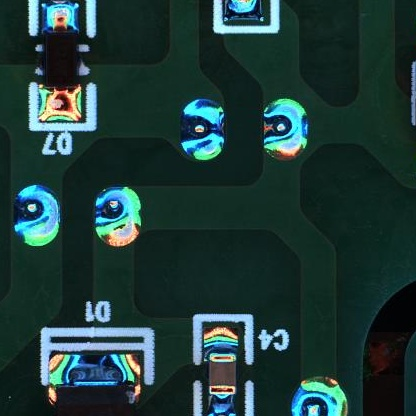spot: (13, 184, 58, 247), (181, 97, 226, 160), (95, 186, 141, 247), (265, 97, 307, 163), (291, 376, 351, 416)
